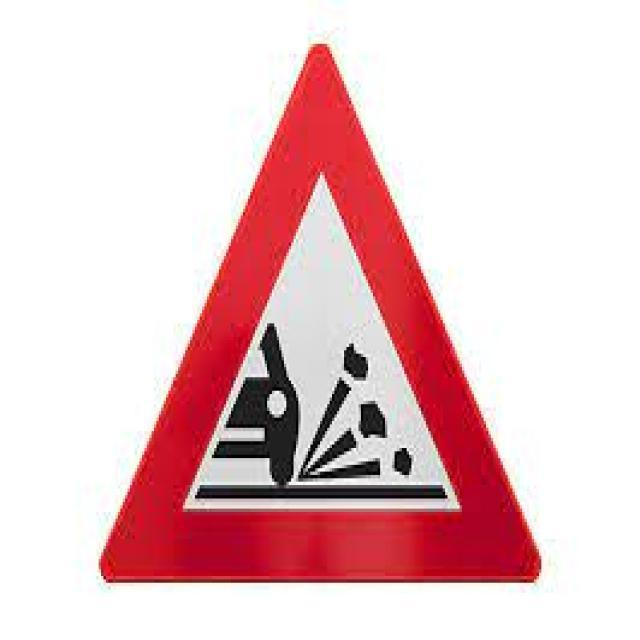loose gravel: (103, 45, 544, 584)
